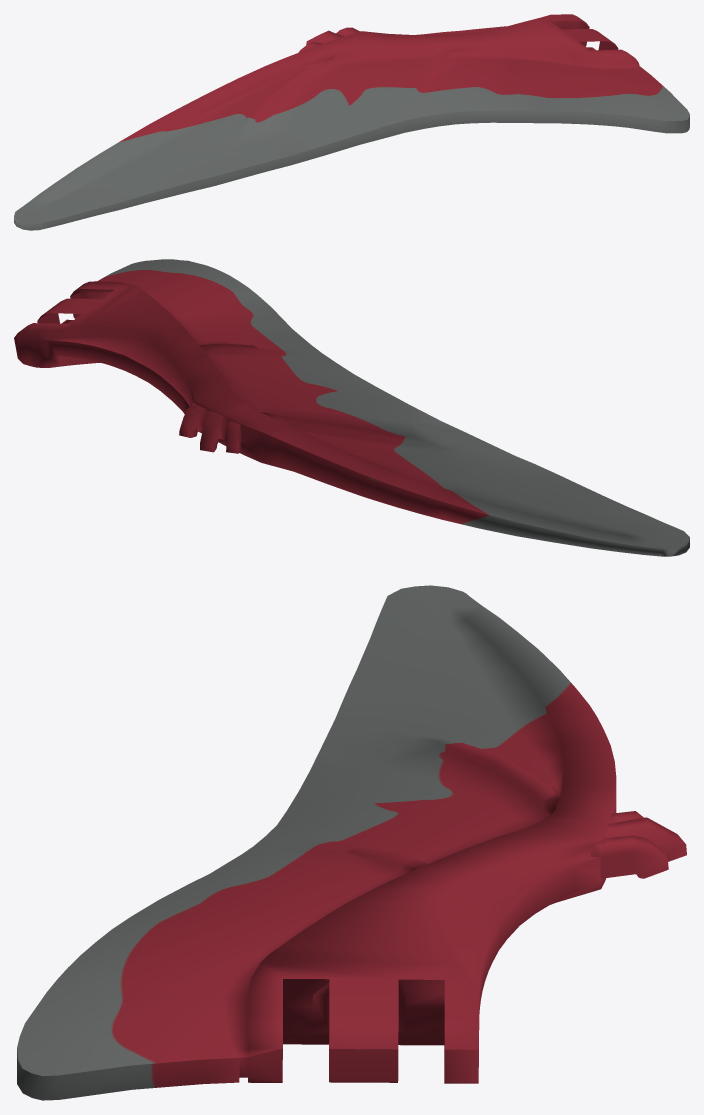
Rendered from AlaIzq.obj.
3 renders of one model, top to bottom at view 1: azimuth 30°, elevation 25°; view 2: azimuth 150°, elevation 25°; view 3: azimuth 270°, elevation 25°, orthographic. The views are drawn at different scales.
Parts seen in each view (by area): view 1: AlaIzq1:polySurface55 group2; view 2: AlaIzq1:polySurface55 group2; view 3: AlaIzq1:polySurface55 group2.
Part boxes in pixels (x1=…): AlaIzq1:polySurface55 group2: x1=14, y1=14, x2=689, y2=230; AlaIzq1:polySurface55 group2: x1=14, y1=259, x2=689, y2=556; AlaIzq1:polySurface55 group2: x1=17, y1=585, x2=686, y2=1100.
Size of the model in its own units: 6.6 by 0.8582 by 3.31.
1 material, 1 textured.
